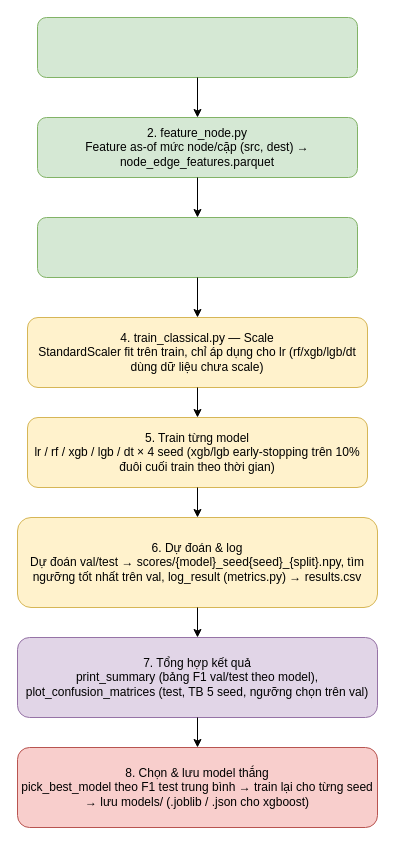
Some shapes in this 395 by 845 pixel diagram are drawn without their labels. The shapes that lost their labels are listed below. From the top down, each one's centre as x and y in pixels, then its label:
At (x=197, y=47): "1. feature_transaction.py Feature mức giao dịch → transaction_features.parquet".
At (x=197, y=247): "3. assemble_txn.py Ghép ~90 feature → txn_matrix_{train,val,test}.parquet".
